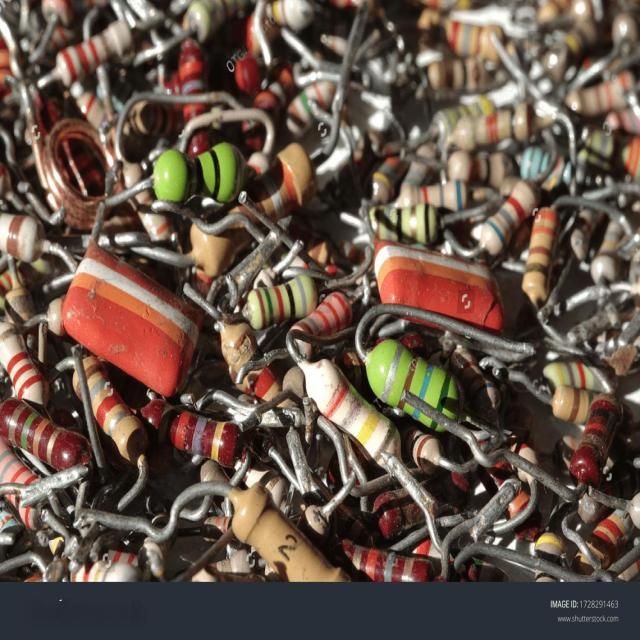Capacitors: (61, 244, 201, 401), (373, 243, 506, 335)
